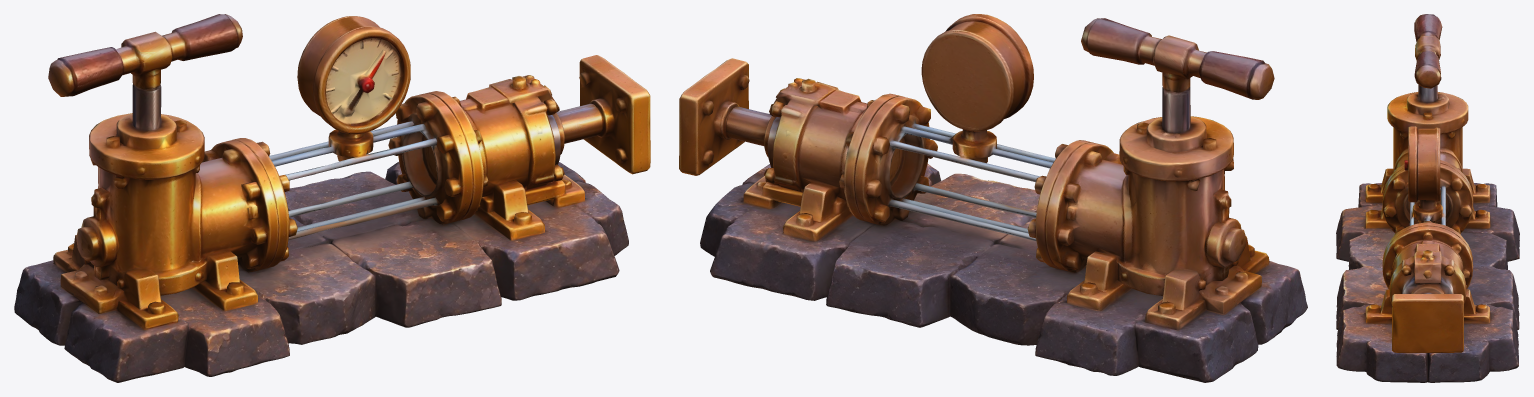
Rendered from pump.glb.
The picture shows the model from 3 angles, left to right: view 1: azimuth 30°, elevation 25°; view 2: azimuth 150°, elevation 25°; view 3: azimuth 270°, elevation 25°; orthographic projection. The views are drawn at different scales.
Parts seen in each view (by area): view 1: tripo_node_2dbe6d18-64d4-4338-b8da-87be41da2575; view 2: tripo_node_2dbe6d18-64d4-4338-b8da-87be41da2575; view 3: tripo_node_2dbe6d18-64d4-4338-b8da-87be41da2575.
Part boxes in pixels (x1,y1,x2,y2): tripo_node_2dbe6d18-64d4-4338-b8da-87be41da2575: (14, 14, 650, 382); tripo_node_2dbe6d18-64d4-4338-b8da-87be41da2575: (679, 14, 1307, 382); tripo_node_2dbe6d18-64d4-4338-b8da-87be41da2575: (1336, 14, 1519, 382).
Bounding box in the file's own units: 1 × 0.4908 × 0.4134.
1 material, 1 textured.
